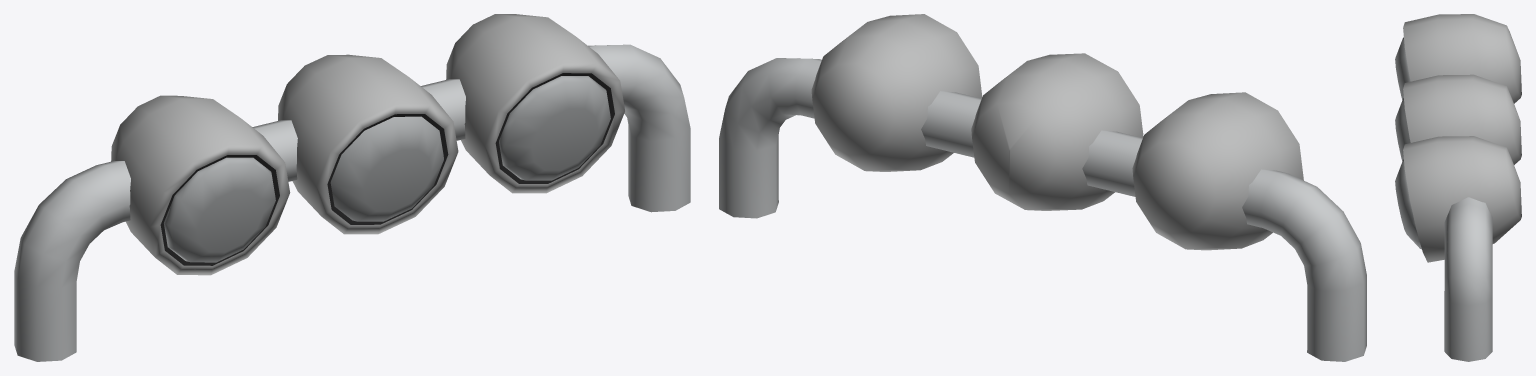
The model's file is Car_03_FogLight.fbx.
The picture shows the model from 3 angles, left to right: view 1: azimuth 30°, elevation 25°; view 2: azimuth 150°, elevation 25°; view 3: azimuth 270°, elevation 25°; orthographic projection. The views are drawn at different scales.
Visible parts, largest first — view 1: Car_03_FogLight; view 2: Car_03_FogLight; view 3: Car_03_FogLight.
Part boxes in pixels (box(x1,y1,x2,y2)): Car_03_FogLight: box(14, 14, 690, 361); Car_03_FogLight: box(719, 14, 1366, 361); Car_03_FogLight: box(1395, 14, 1521, 361).
Size of the model in its own units: 101 by 22.15 by 30.78.
